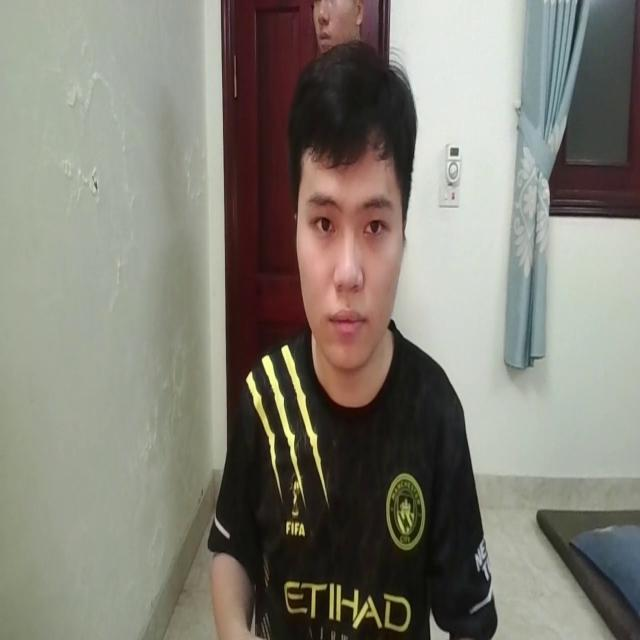extra_person: (311, 0, 360, 52)
student: (211, 39, 498, 640)
